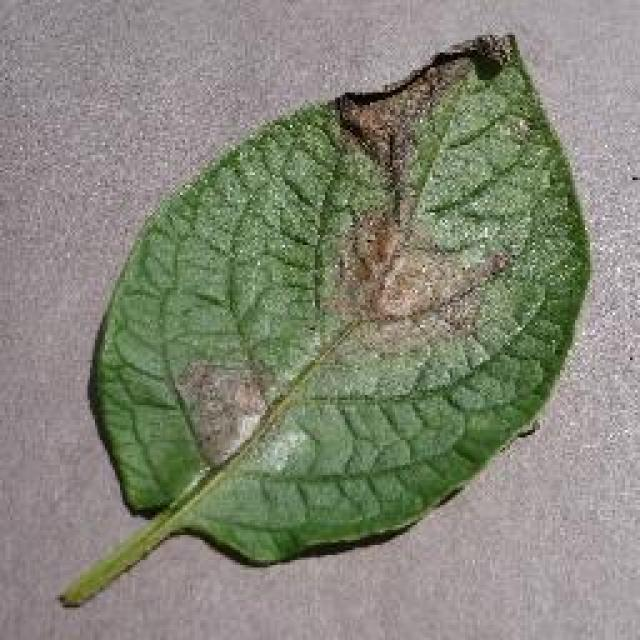late_blight: (57, 25, 595, 597)
